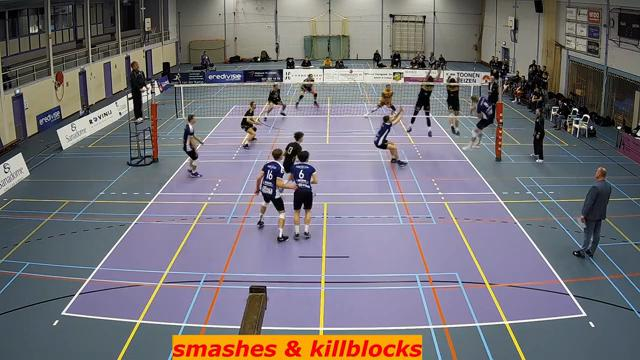attacco: (459, 92, 496, 155)
muro: (407, 62, 442, 139), (442, 69, 463, 138)
